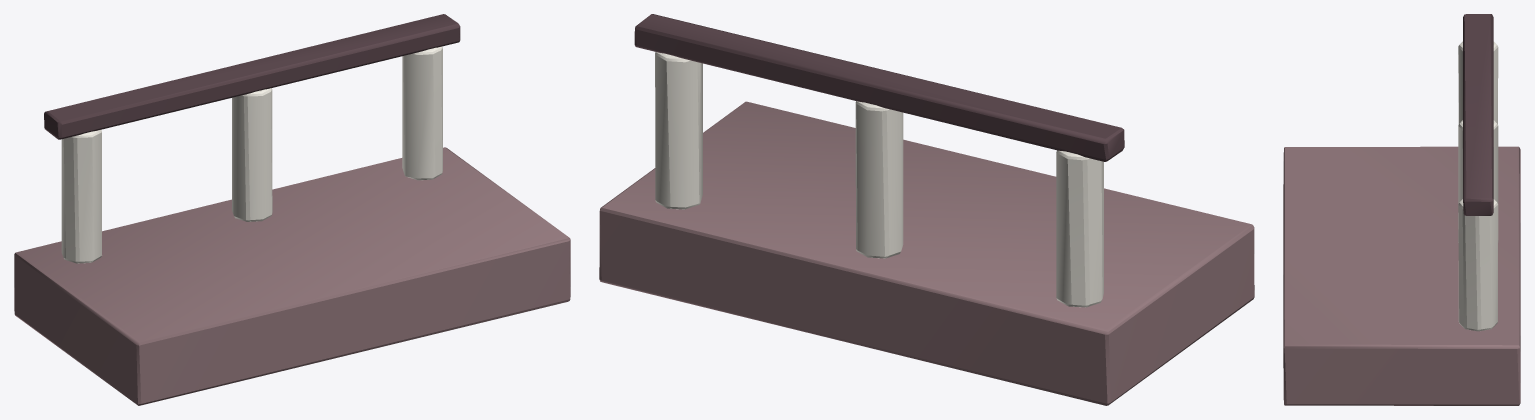
The model's file is SM_Neroberg_Vista_LOD1.fbx.
3 renders of one model, left to right at view 1: azimuth 30°, elevation 25°; view 2: azimuth 150°, elevation 25°; view 3: azimuth 270°, elevation 25°, orthographic. The views are drawn at different scales.
Visible parts, largest first — view 1: SM_Neroberg_Vista_LOD1; view 2: SM_Neroberg_Vista_LOD1; view 3: SM_Neroberg_Vista_LOD1.
Part boxes in pixels (x1,y1,x2,y2): SM_Neroberg_Vista_LOD1: (14, 14, 570, 405); SM_Neroberg_Vista_LOD1: (599, 14, 1254, 405); SM_Neroberg_Vista_LOD1: (1283, 14, 1520, 405).
Bounding box in the file's own units: 2.8 × 1.31 × 1.4.
